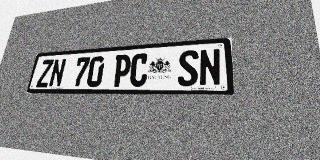0: (86, 56, 105, 87)
7: (71, 57, 90, 87)
C: (129, 53, 149, 87)
N: (199, 48, 221, 86), (48, 58, 67, 87)
P: (112, 54, 132, 87)
S: (177, 50, 199, 86)
Z: (36, 59, 54, 87)
